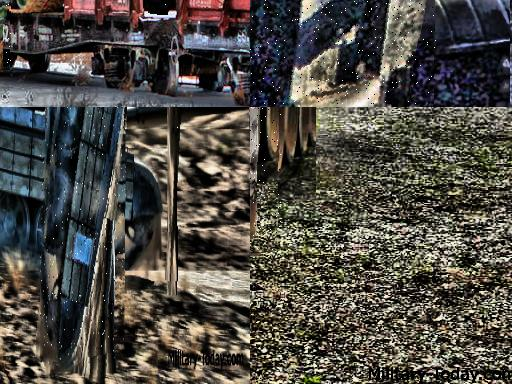tanks: (42, 108, 127, 364), (251, 1, 429, 108), (173, 108, 182, 281), (150, 1, 170, 16)
